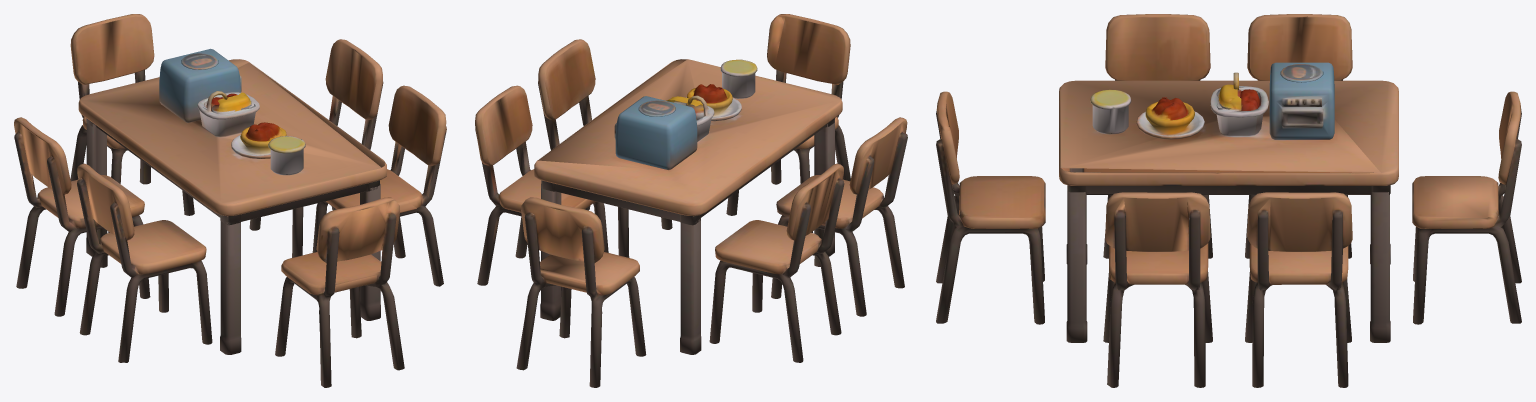
File: break_room_table_09b9fd0d_v1.glb
3 views of the same model, side by side, from view 1: azimuth 30°, elevation 25°; view 2: azimuth 150°, elevation 25°; view 3: azimuth 270°, elevation 25° (orthographic). The views are drawn at different scales.
Parts seen in each view (by area): view 1: material; view 2: material; view 3: material.
Part boxes in pixels (left/top/right/bottom): material: left=14, top=14, right=446, bottom=387; material: left=475, top=14, right=907, bottom=387; material: left=936, top=14, right=1521, bottom=387.
Bounding box in the file's own units: 1.42 × 0.8123 × 1.9.
1 material, 1 textured.
